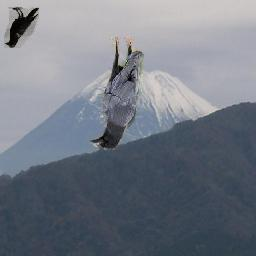Crow: (90, 38, 144, 151), (5, 6, 40, 49)
